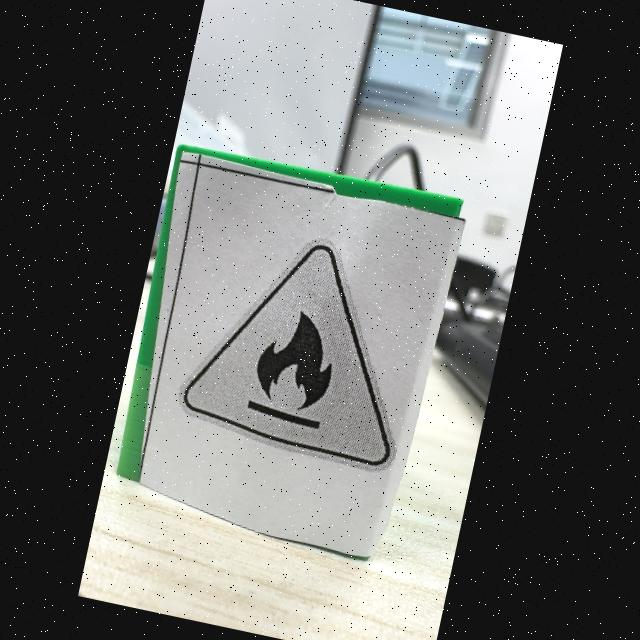Fire: (184, 246, 392, 467)
